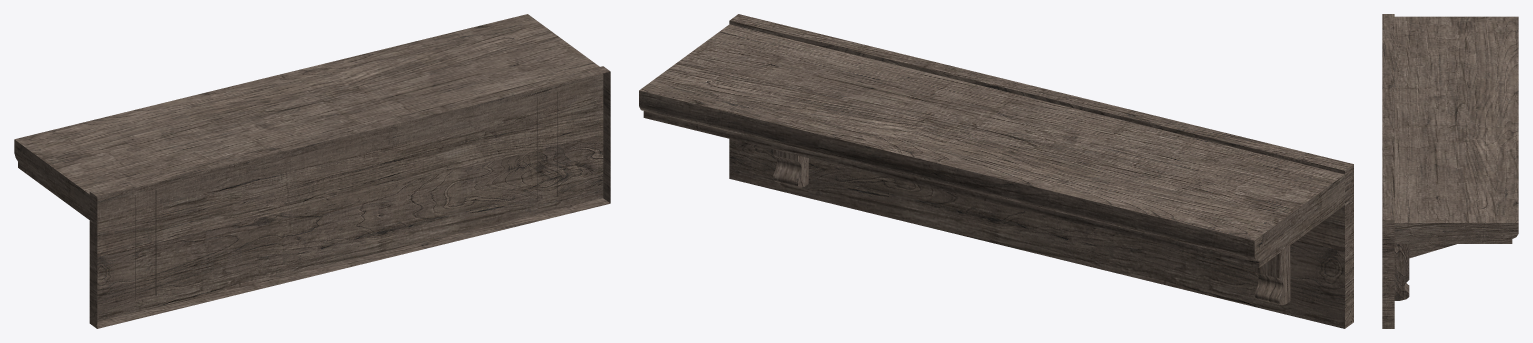
File: mw_wall_shelf_02.FBX
The picture shows the model from 3 angles, left to right: view 1: azimuth 30°, elevation 25°; view 2: azimuth 150°, elevation 25°; view 3: azimuth 270°, elevation 25°; orthographic projection. The views are drawn at different scales.
Parts seen in each view (by area): view 1: mw_wall_shelf_02; view 2: mw_wall_shelf_02; view 3: mw_wall_shelf_02.
Boxes of the visible parts, x1=… form: mw_wall_shelf_02: x1=14, y1=14, x2=610, y2=328; mw_wall_shelf_02: x1=639, y1=14, x2=1353, y2=328; mw_wall_shelf_02: x1=1382, y1=14, x2=1518, y2=328.
Bounding box in the file's own units: 171 × 42.08 × 47.91.
